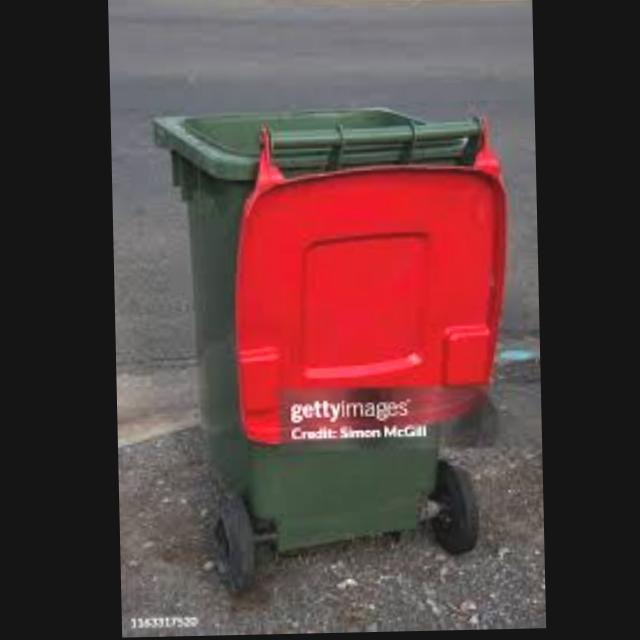Trash_Can_Empty: (156, 102, 513, 556)
